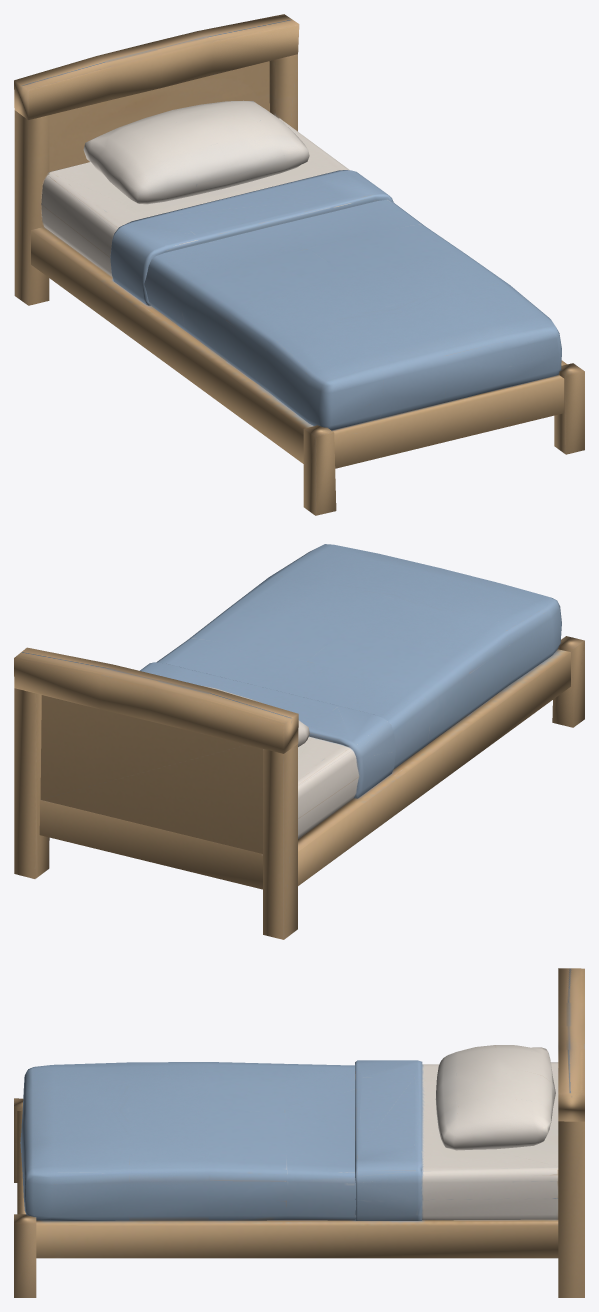
File: bed.glb
The picture shows the model from 3 angles, top to bottom: view 1: azimuth 30°, elevation 25°; view 2: azimuth 150°, elevation 25°; view 3: azimuth 270°, elevation 25°; orthographic projection. The views are drawn at different scales.
Size of the model in its own units: 0.4956 by 0.3838 by 0.9512.
Materials: 1 (1 with a texture image).
